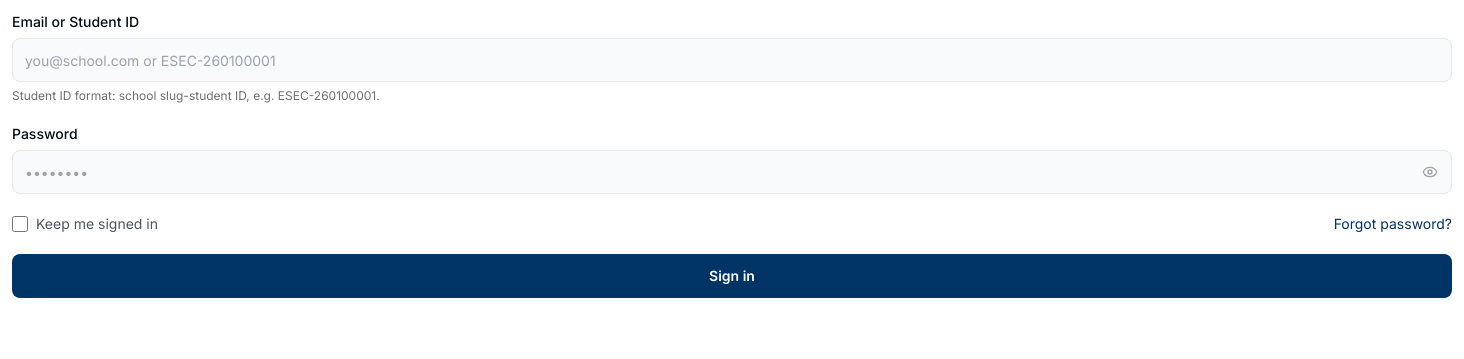
sign-in form › asks for empty fields before sending and focuses the first
Click the button "Sign in".
click(732, 276)  # box [12,254,1452,298]
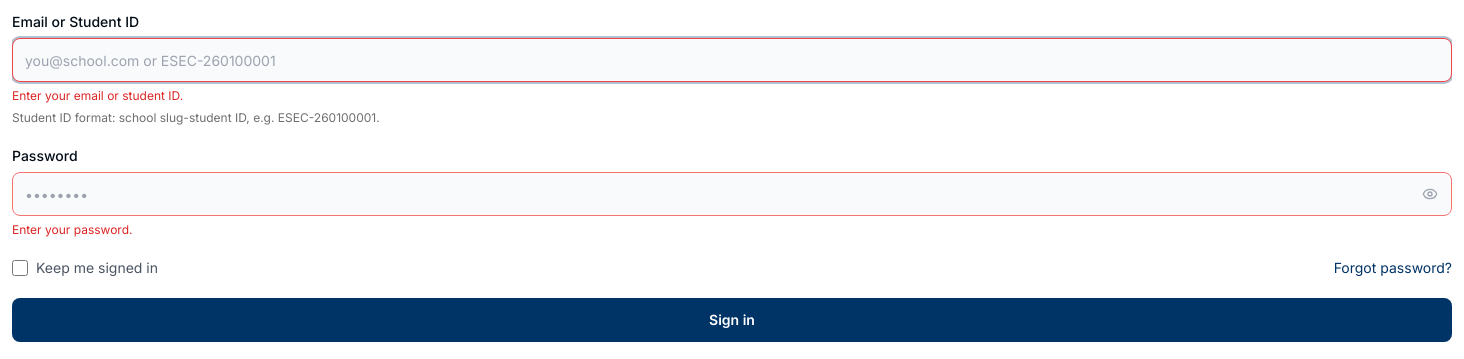
Check: the text "Enter your email or student ID." is shown, box [12,88,183,103]
